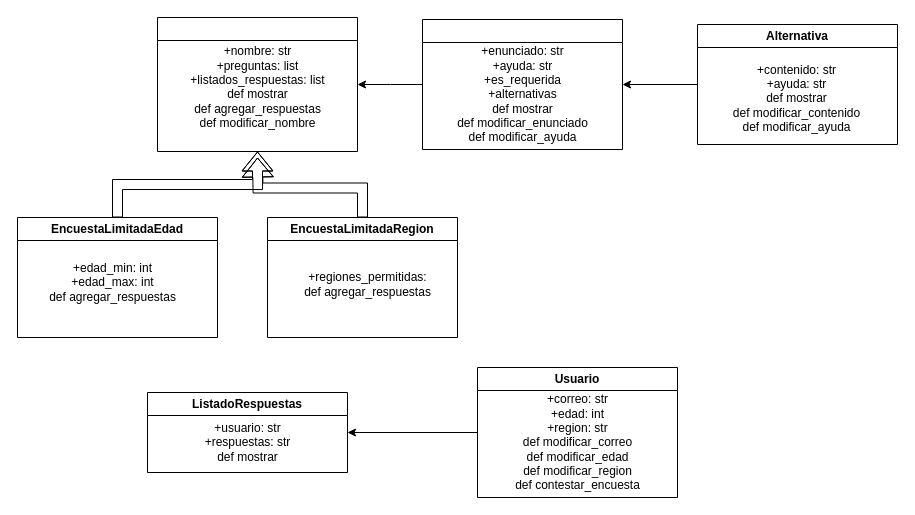
Image size: 915x515. Some labels were removed from this diagram. Here are the shapes that lost their labels. From the top down, the box of each, then its label:
(156, 16, 358, 152): Encuesta
(422, 18, 622, 150): Pregunta
